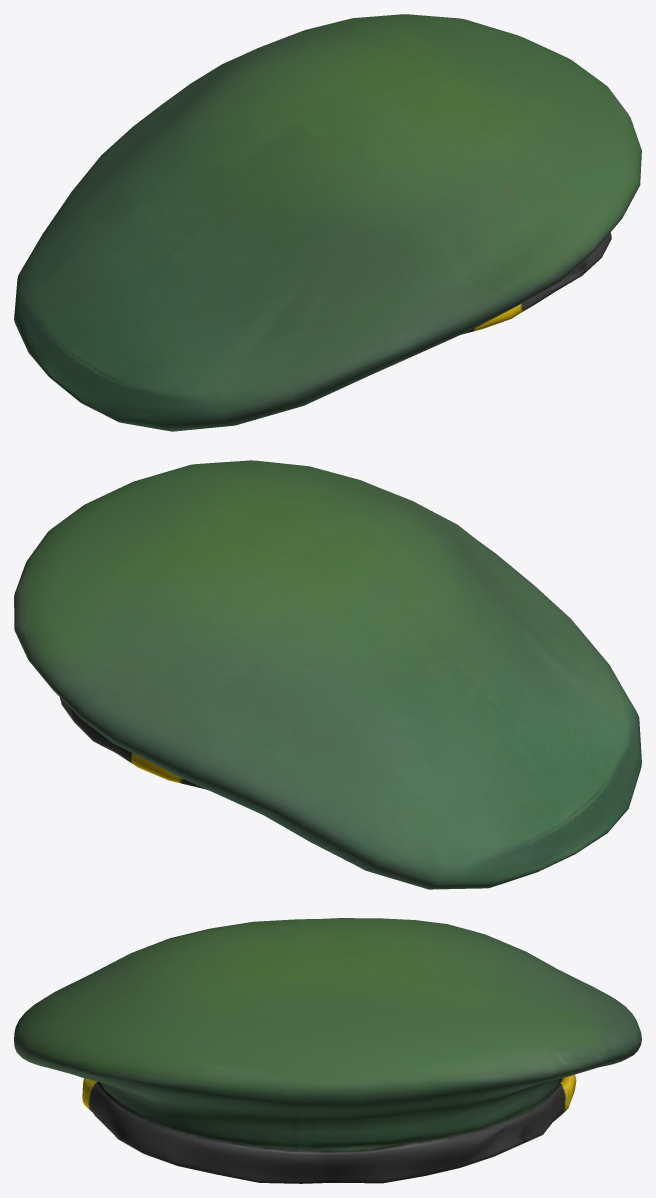
The model's file is Beret-Green.glb.
3 views of the same model, one above another, from view 1: azimuth 30°, elevation 25°; view 2: azimuth 150°, elevation 25°; view 3: azimuth 270°, elevation 25° (orthographic). The views are drawn at different scales.
Parts seen in each view (by area): view 1: Beret-Green; view 2: Beret-Green; view 3: Beret-Green.
Part boxes in pixels (x1=…): Beret-Green: x1=14, y1=14, x2=641, y2=431; Beret-Green: x1=14, y1=460, x2=641, y2=889; Beret-Green: x1=14, y1=918, x2=641, y2=1183.
Size of the model in its own units: 0.5177 by 0.2164 by 0.508.
1 material, 1 textured.
